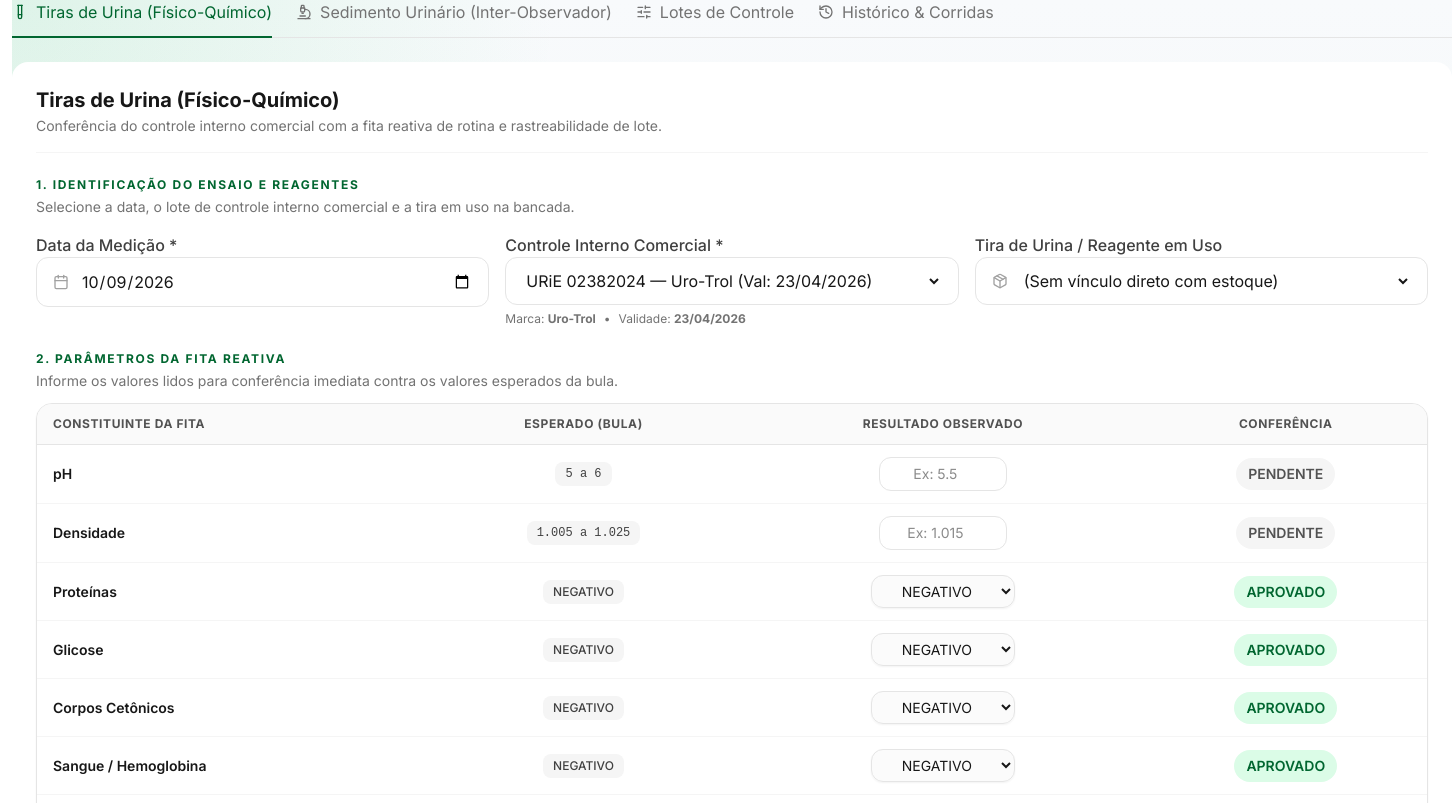
Test: UroanaliseArea › deve exibir caixas de seleção (select) para parâmetros qualitativos da fita e Urobilinogênio com apenas NEGATIVO e AUMENTADO
Note: Preenche pH e densidade para sair de PENDENTE
Step 1. Type "5.5" into the number field named "Resultado de pH" → (943, 474), box [879,457,1007,491]
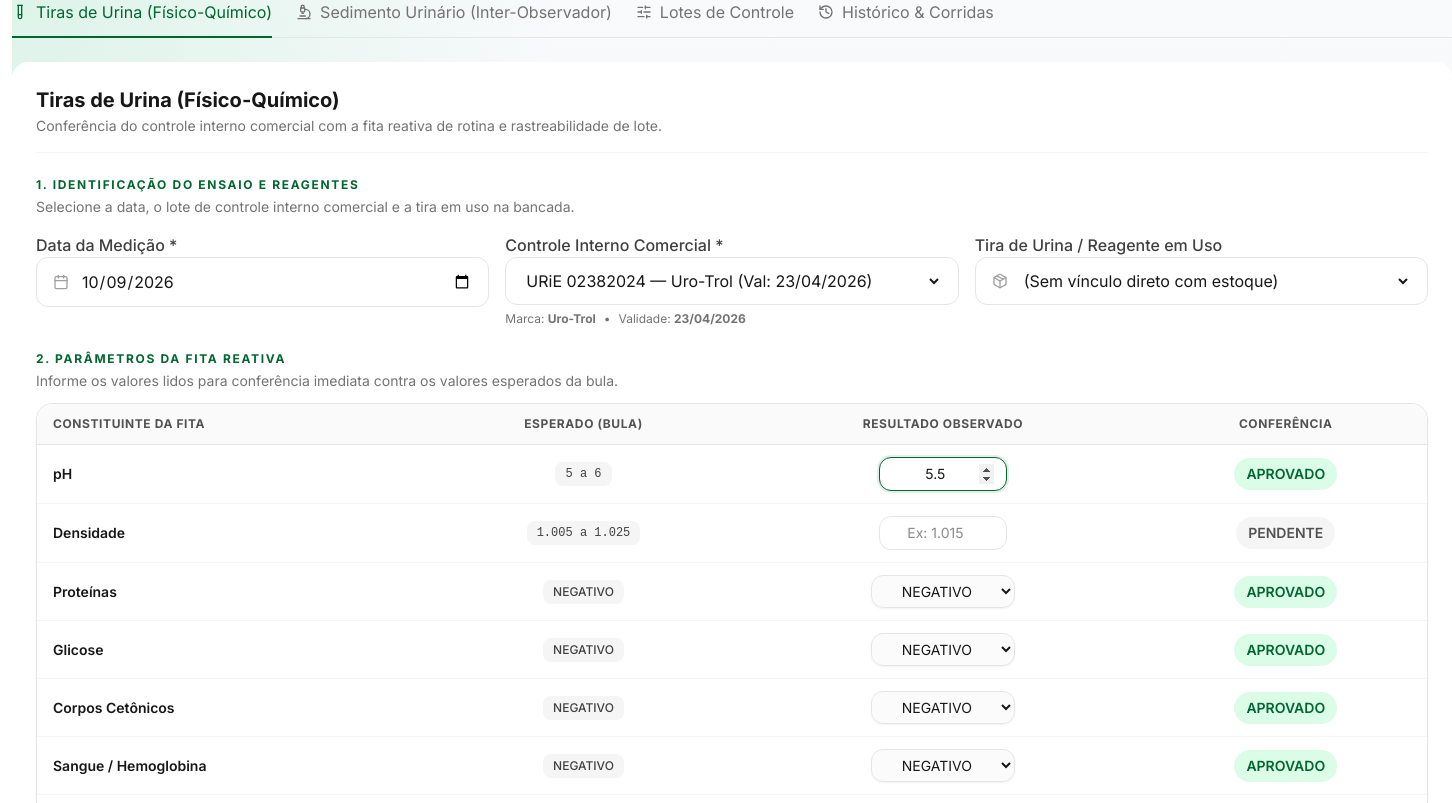
Step 2. Type "1.015" into the number field named "Resultado de Densidade" → (943, 533), box [879,516,1007,550]
(page scrolled)
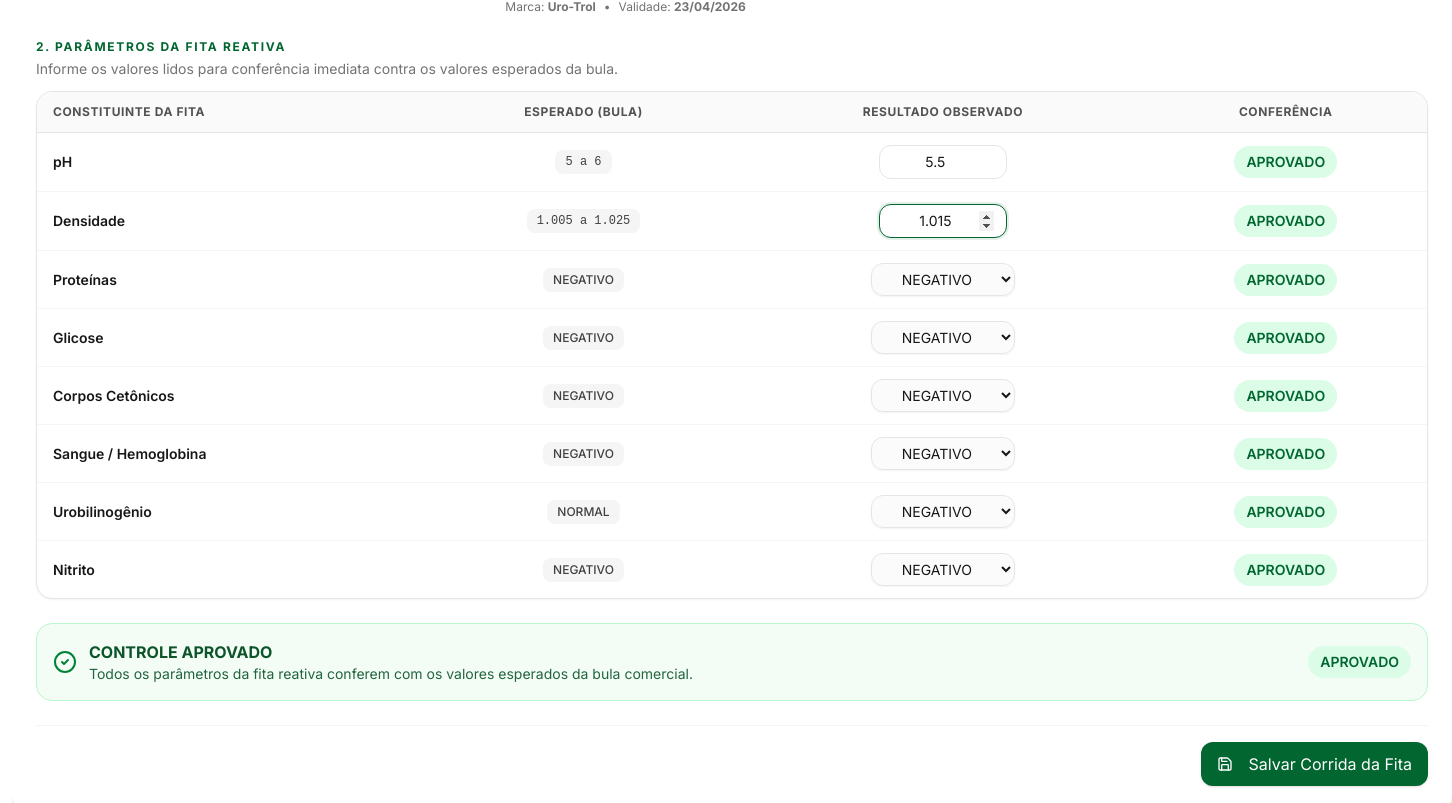
Check: the heading "CONTROLE APROVADO" is shown, box [89,642,272,662]
Note: Ao mudar Urobilinogênio para AUMENTADO, deve acusar divergência imediata e REPROVADO
Step 3. Select "AUMENTADO" in the dropdown named "Resultado de Urobilinogênio" → (943, 512), box [871,495,1015,528]
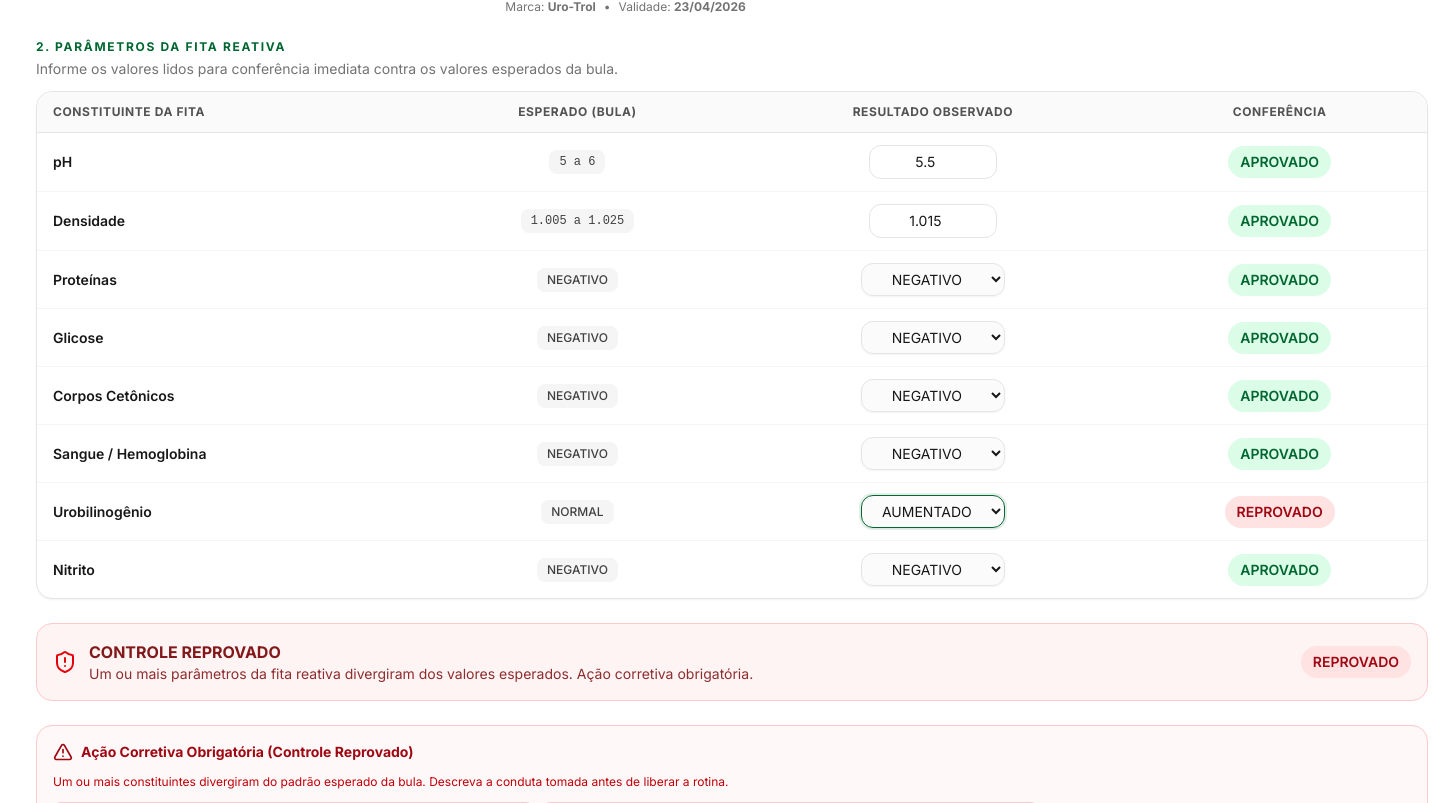
Check: the heading "CONTROLE REPROVADO" is shown, box [89,642,281,662]
Note: Ao retornar para NEGATIVO, volta a ser APROVADO
Step 4. Select "NEGATIVO" in the dropdown named "Resultado de Urobilinogênio" → (933, 512), box [861,495,1005,528]
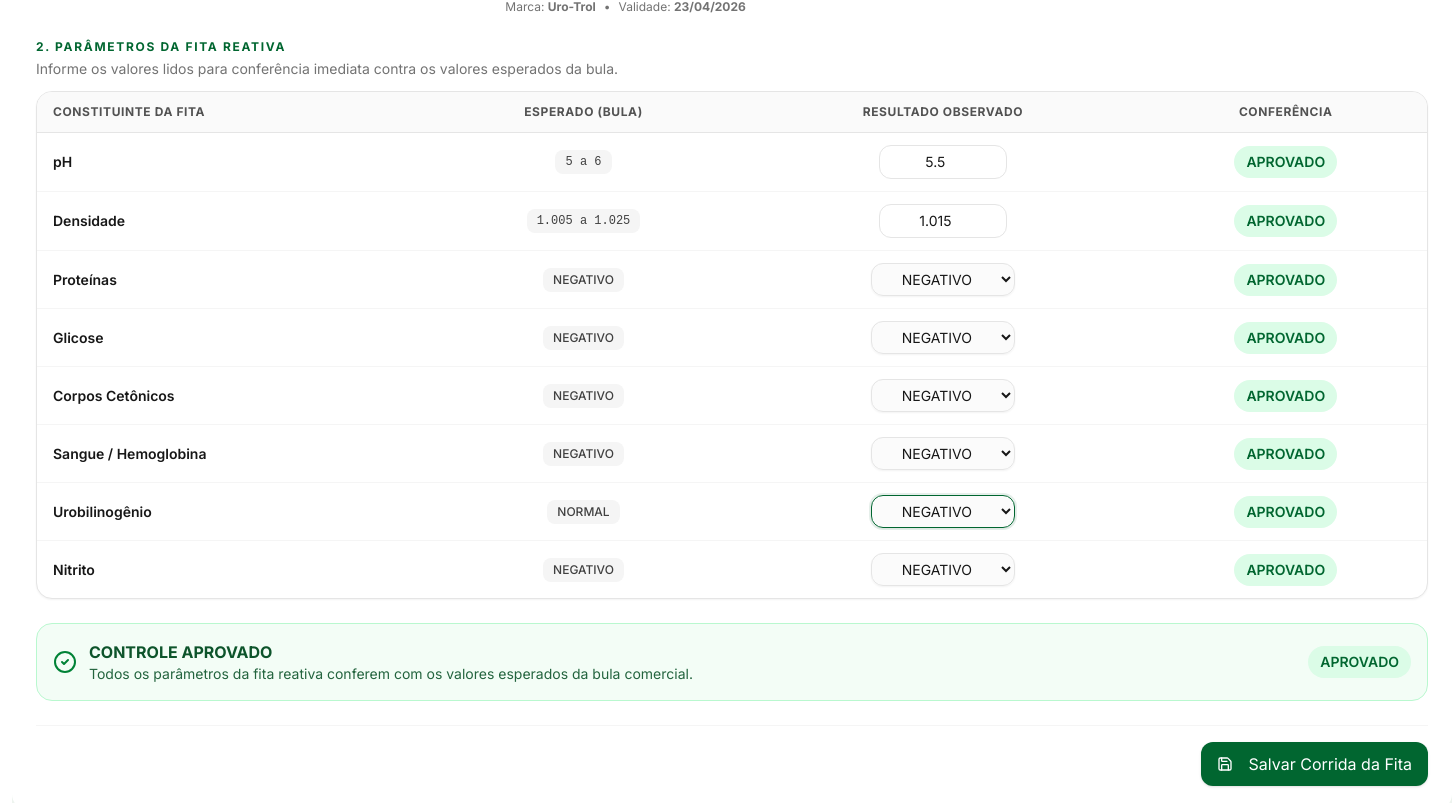
Check: the heading "CONTROLE APROVADO" is shown, box [89,642,272,662]
